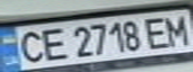1: (106, 18, 127, 54)
2: (69, 22, 93, 58)
7: (87, 20, 109, 56)
8: (121, 17, 145, 52)
C: (12, 28, 48, 64)
E: (36, 25, 69, 62), (139, 15, 172, 49)
M: (160, 11, 193, 47)
